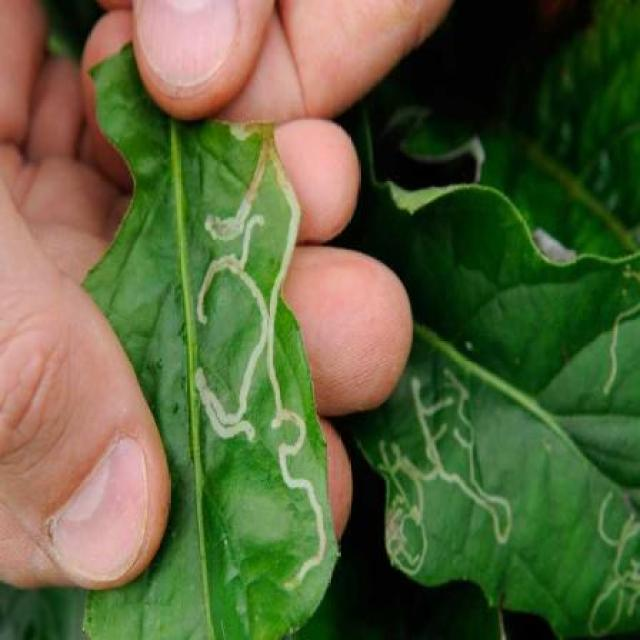Leaf Miner: (81, 34, 336, 640), (348, 175, 640, 640)
